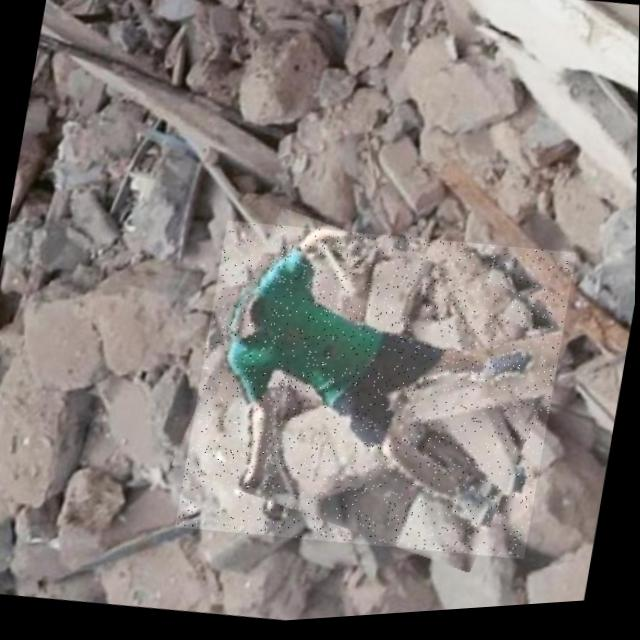Person in Rubble: (176, 205, 578, 584)
